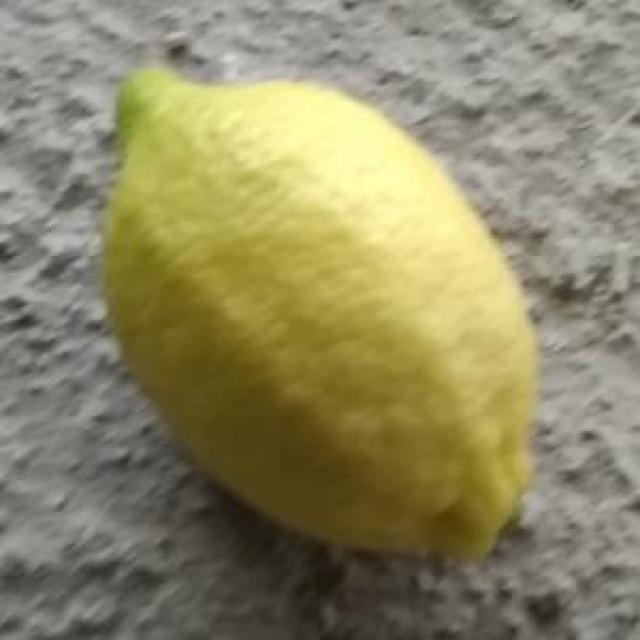lemon: (107, 62, 534, 568)
